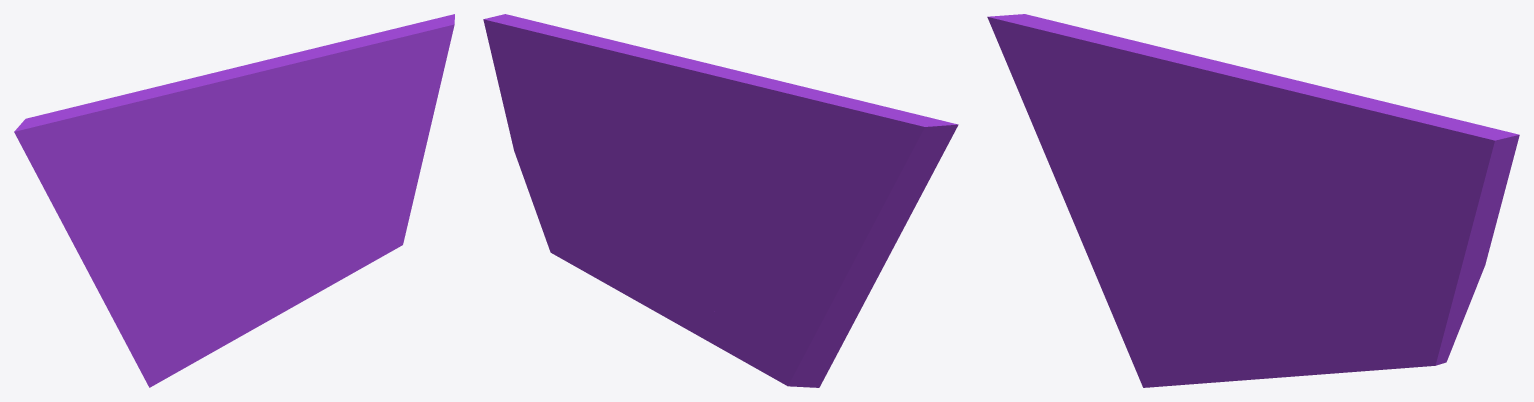
File: Glass_113_8_chunks.fbx
3 renders of one model, left to right at view 1: azimuth 30°, elevation 25°; view 2: azimuth 150°, elevation 25°; view 3: azimuth 330°, elevation 25°, orthographic. The views are drawn at different scales.
Parts seen in each view (by area): view 1: Glass_113_8_0, Glass_113_8_3, Glass_113_8_1, Glass_113_8_2; view 2: Glass_113_8_0, Glass_113_8_3, Glass_113_8_1; view 3: Glass_113_8_0, Glass_113_8_3, Glass_113_8_1, Glass_113_8_2.
Part boxes in pixels (x1,y1,x2,y2): Glass_113_8_0: [14, 73, 276, 387]; Glass_113_8_3: [212, 14, 454, 190]; Glass_113_8_1: [213, 167, 421, 351]; Glass_113_8_2: [258, 142, 309, 224]; Glass_113_8_0: [658, 73, 958, 387]; Glass_113_8_3: [483, 14, 746, 198]; Glass_113_8_1: [520, 169, 738, 358]; Glass_113_8_0: [987, 14, 1289, 387]; Glass_113_8_3: [1225, 66, 1519, 286]; Glass_113_8_1: [1216, 251, 1477, 382]; Glass_113_8_2: [1268, 165, 1328, 271].
Bounding box in the file's own units: 667 × 408 × 27.2.
